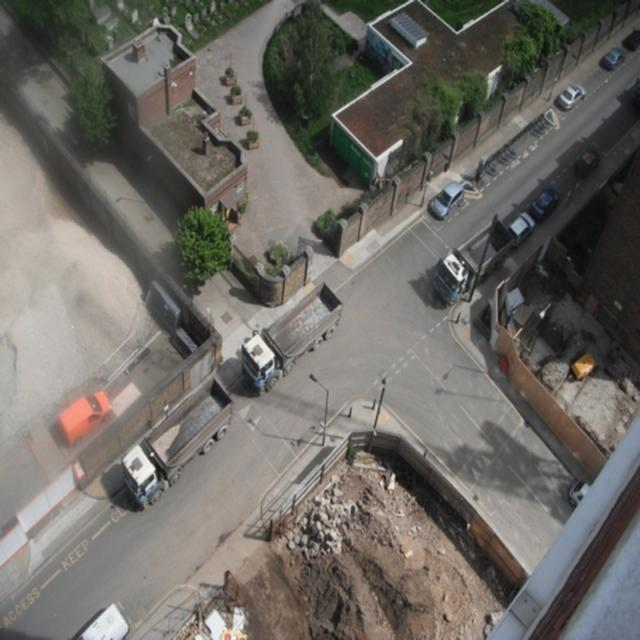car: (75, 596, 136, 631), (426, 180, 463, 219), (525, 186, 558, 222), (571, 139, 599, 177), (506, 209, 533, 244), (556, 82, 585, 110), (568, 478, 589, 506), (602, 46, 625, 70), (623, 27, 638, 48)
truck: (118, 376, 233, 505), (239, 280, 340, 393), (430, 215, 512, 305), (55, 388, 112, 447)
